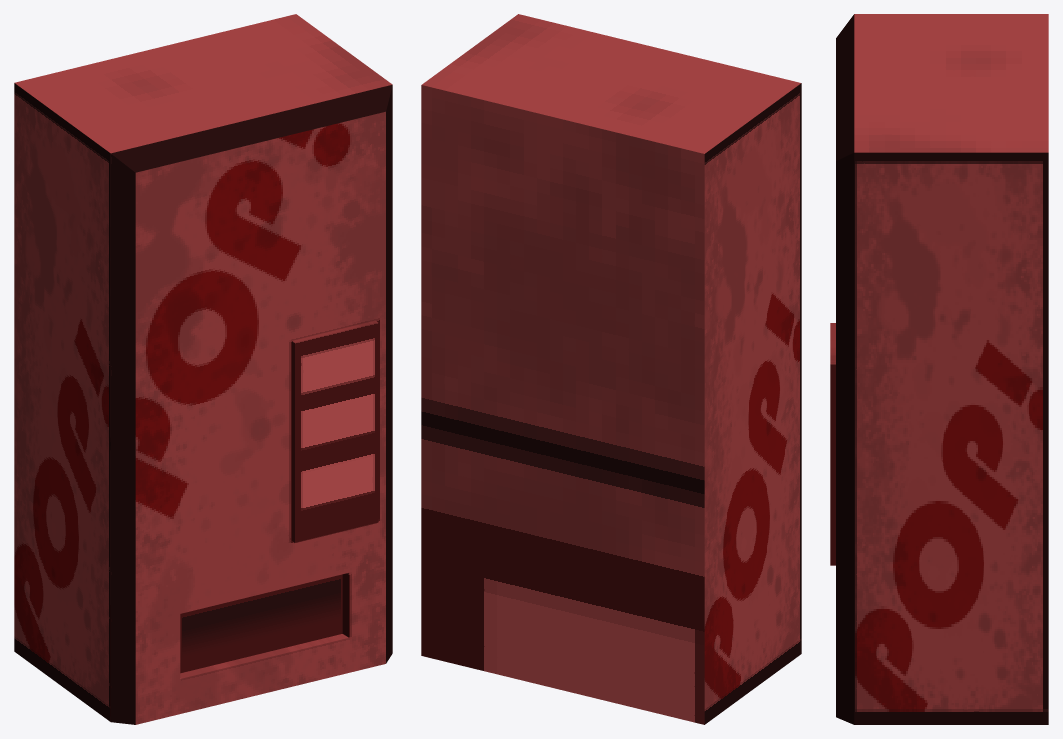
File: vending.glb
The picture shows the model from 3 angles, left to right: view 1: azimuth 30°, elevation 25°; view 2: azimuth 150°, elevation 25°; view 3: azimuth 270°, elevation 25°; orthographic projection.
Visible parts, largest first — view 1: vending-col; view 2: vending-col; view 3: vending-col.
Boxes of the visible parts, <box> form: vending-col: <box>14,14,392,724</box>; vending-col: <box>421,14,801,724</box>; vending-col: <box>830,14,1048,724</box>.
Bounding box in the file's own units: 0.673 × 1.3 × 0.448.
1 material, 1 textured.
